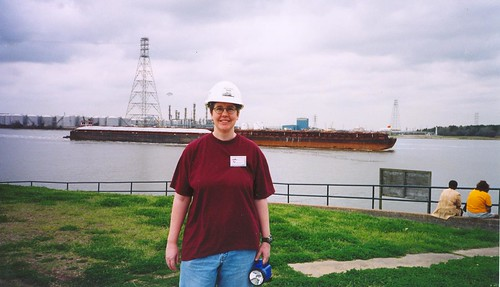person hardhat: (166, 81, 293, 287)
